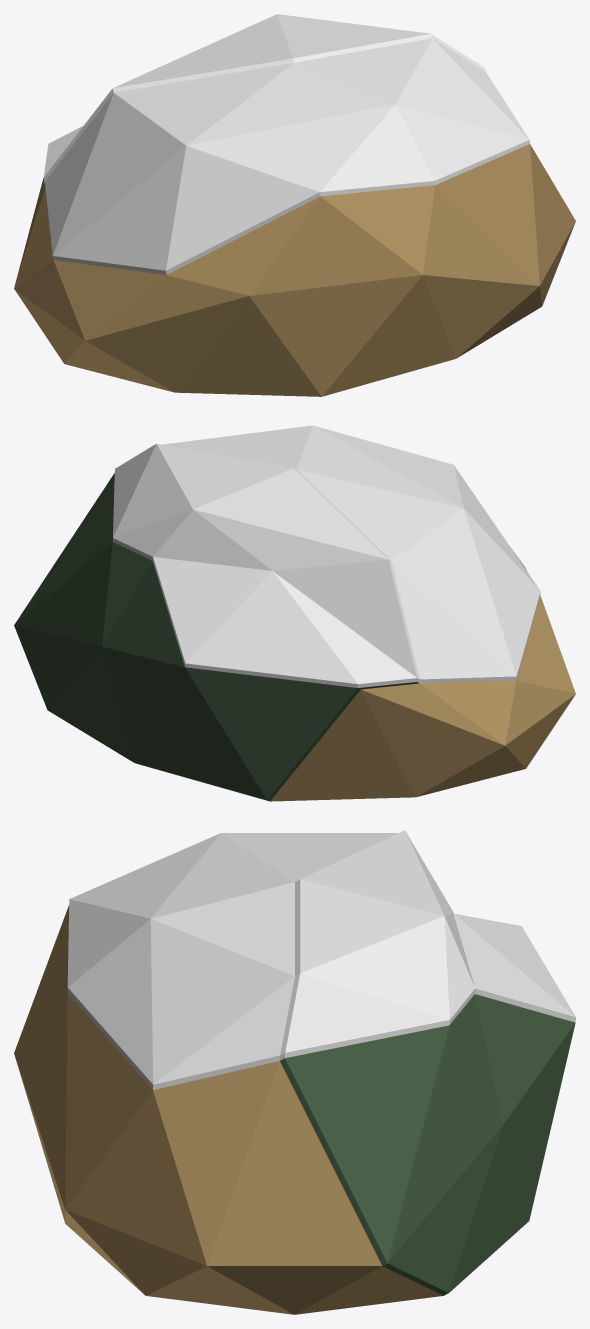
Rendered from MossStone2Nb.fbx.
3 views of the same model, one above another, from view 1: azimuth 30°, elevation 25°; view 2: azimuth 150°, elevation 25°; view 3: azimuth 270°, elevation 25° (orthographic). The views are drawn at different scales.
Visible parts, largest first — view 1: MossStone2N.001; view 2: MossStone2N.001; view 3: MossStone2N.001.
Boxes of the visible parts, x1=… form: MossStone2N.001: x1=14, y1=14, x2=575, y2=396; MossStone2N.001: x1=14, y1=425, x2=575, y2=801; MossStone2N.001: x1=14, y1=830, x2=575, y2=1314.
Size of the model in its own units: 493 by 237 by 396.
